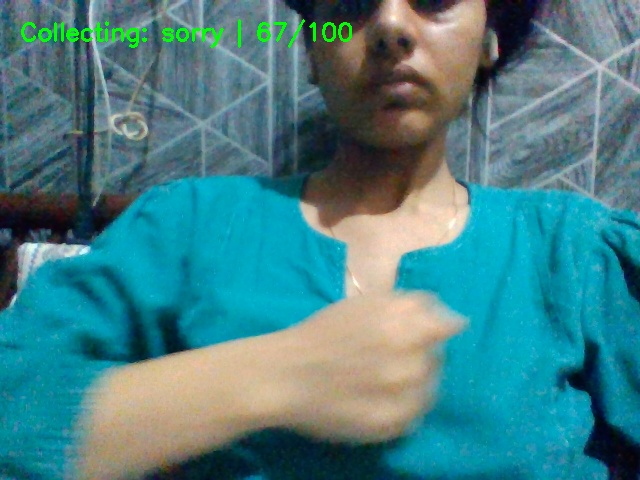sorry: (260, 274, 479, 477)
